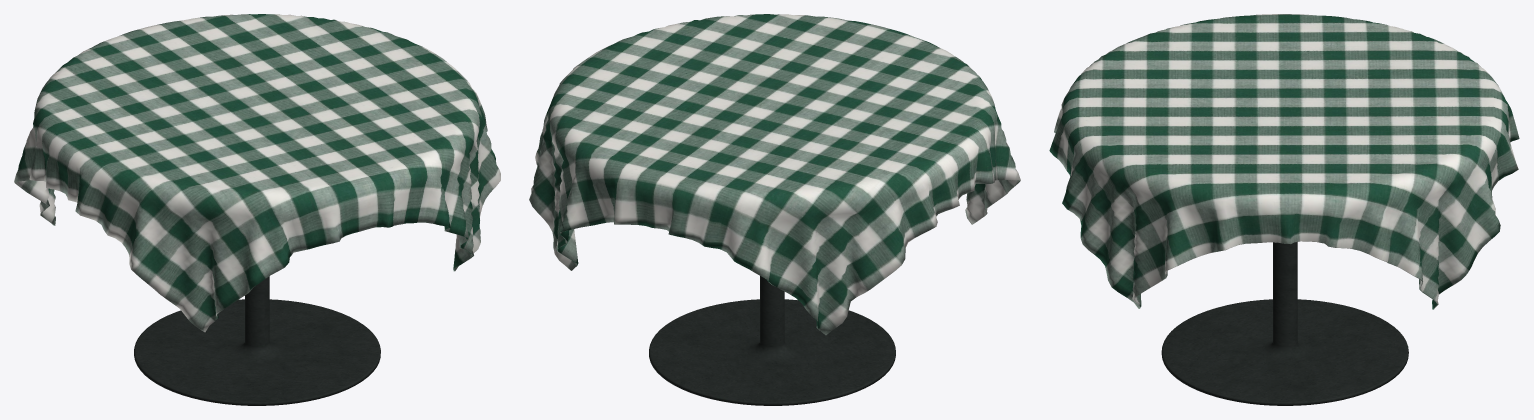
Rendered from dinner-table.glb.
3 views of the same model, side by side, from view 1: azimuth 30°, elevation 25°; view 2: azimuth 150°, elevation 25°; view 3: azimuth 270°, elevation 25° (orthographic).
Parts seen in each view (by area): view 1: Table; view 2: Table; view 3: Table.
Part boxes in pixels (bbox=[...]): Table: bbox=[14, 14, 500, 405]; Table: bbox=[529, 14, 1020, 405]; Table: bbox=[1049, 14, 1519, 405].
Size of the model in its own units: 1.32 by 0.7853 by 1.33.
1 material, 1 textured.
